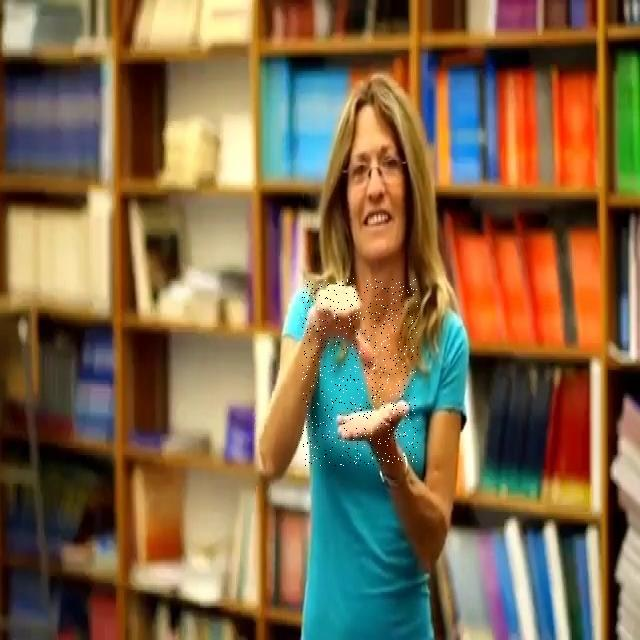sauce: (302, 278, 418, 466)
